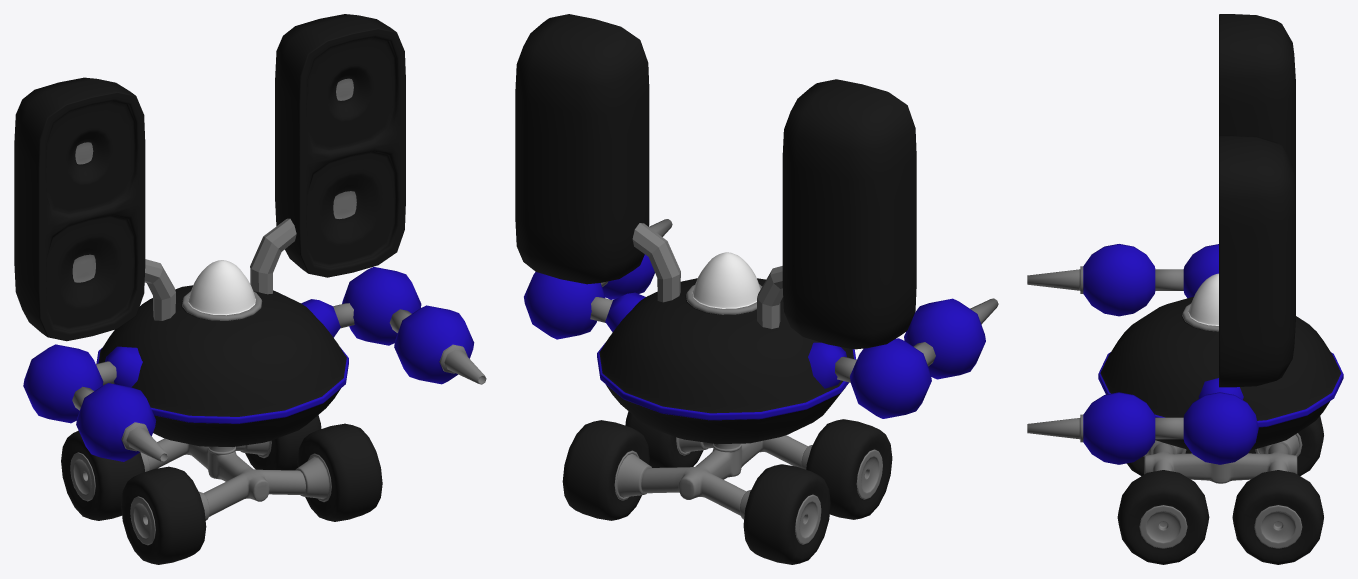
The model's file is level 3 boss_textured.fbx.
The picture shows the model from 3 angles, left to right: view 1: azimuth 30°, elevation 25°; view 2: azimuth 150°, elevation 25°; view 3: azimuth 270°, elevation 25°; orthographic projection. The views are drawn at different scales.
Visible parts, largest first — view 1: body, speaker2, speaker`, tire3, tire1, gun1, gun2, tire4, elbow2, elbow1, tire2, coil1 (+3 smaller); view 2: body, speaker2, speaker`, tire4, tire2, tire3, elbow2, gun2, elbow1, tire1, coil1, gun1 (+3 smaller); view 3: body, speaker`, speaker2, tire2, tire1, gun1, gun2, elbow1, tire4, elbow2, forearm1, forearm2 (+2 smaller).
Part boxes in pixels (x1=…): body: x1=96, y1=260, x2=348, y2=516; speaker2: x1=14, y1=77, x2=145, y2=341; speaker`: x1=275, y1=14, x2=405, y2=277; tire3: x1=121, y1=466, x2=209, y2=564; tire1: x1=295, y1=423, x2=382, y2=521; gun1: x1=394, y1=305, x2=486, y2=384; gun2: x1=76, y1=383, x2=168, y2=461; tire4: x1=61, y1=430, x2=149, y2=520; elbow2: x1=23, y1=344, x2=103, y2=423; elbow1: x1=342, y1=267, x2=421, y2=345; tire2: x1=240, y1=415, x2=321, y2=470; coil1: x1=250, y1=218, x2=296, y2=294; body: x1=597, y1=252, x2=856, y2=515; speaker2: x1=782, y1=79, x2=916, y2=349; speaker`: x1=515, y1=14, x2=649, y2=284; tire4: x1=740, y1=464, x2=830, y2=564; tire2: x1=562, y1=420, x2=651, y2=520; tire3: x1=801, y1=419, x2=892, y2=519; elbow2: x1=850, y1=338, x2=931, y2=418; gun2: x1=904, y1=298, x2=998, y2=379; elbow1: x1=524, y1=272, x2=605, y2=339; tire1: x1=625, y1=411, x2=708, y2=467; coil1: x1=632, y1=223, x2=680, y2=302; gun1: x1=602, y1=219, x2=672, y2=299; body: x1=1098, y1=273, x2=1343, y2=483; speaker`: x1=1219, y1=135, x2=1295, y2=387; speaker2: x1=1219, y1=14, x2=1295, y2=200; tire2: x1=1232, y1=470, x2=1323, y2=564; tire1: x1=1117, y1=470, x2=1209, y2=564; gun1: x1=1027, y1=392, x2=1155, y2=464; gun2: x1=1027, y1=244, x2=1155, y2=316; elbow1: x1=1183, y1=392, x2=1258, y2=464; tire4: x1=1248, y1=416, x2=1323, y2=475; elbow2: x1=1183, y1=244, x2=1218, y2=298; forearm1: x1=1155, y1=417, x2=1183, y2=439; forearm2: x1=1155, y1=269, x2=1183, y2=290.
Size of the model in its own units: 222 by 247 by 164.
